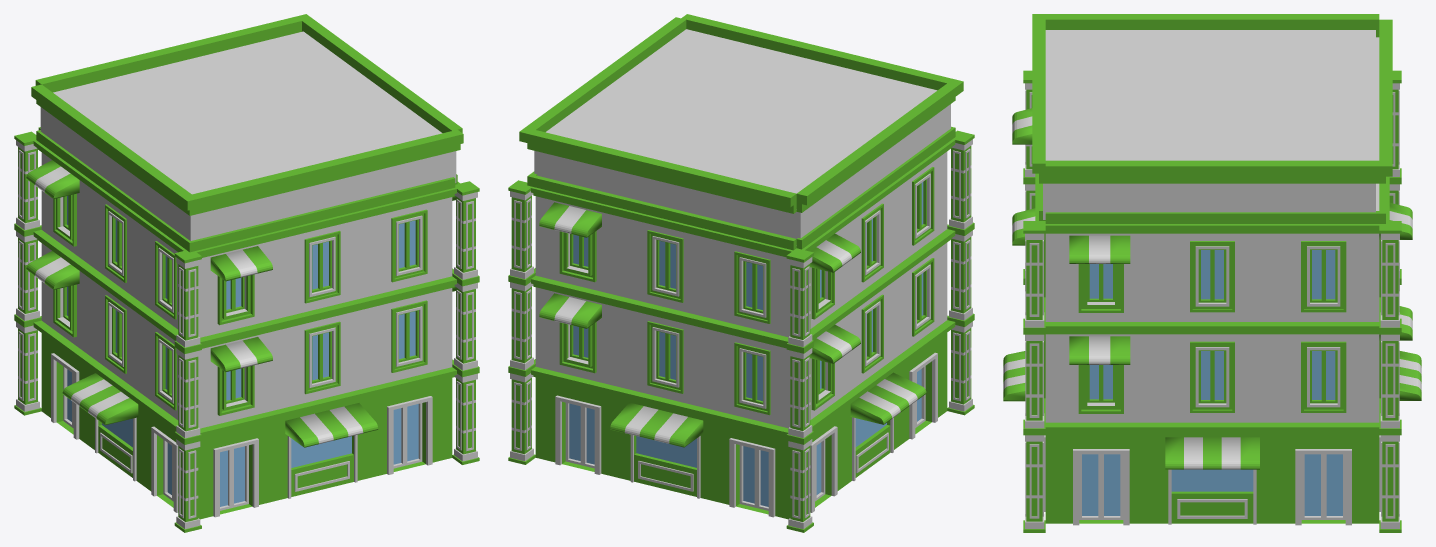
Rendered from Building_2.fbx.
The picture shows the model from 3 angles, left to right: view 1: azimuth 30°, elevation 25°; view 2: azimuth 150°, elevation 25°; view 3: azimuth 270°, elevation 25°; orthographic projection. The views are drawn at different scales.
Visible parts, largest first — view 1: Home-3; view 2: Home-3; view 3: Home-3.
Part boxes in pixels (bbox=[...]): Home-3: bbox=[14, 14, 479, 532]; Home-3: bbox=[508, 14, 974, 532]; Home-3: bbox=[1003, 14, 1421, 532].
Size of the model in its own units: 1128 by 1080 by 1128.
